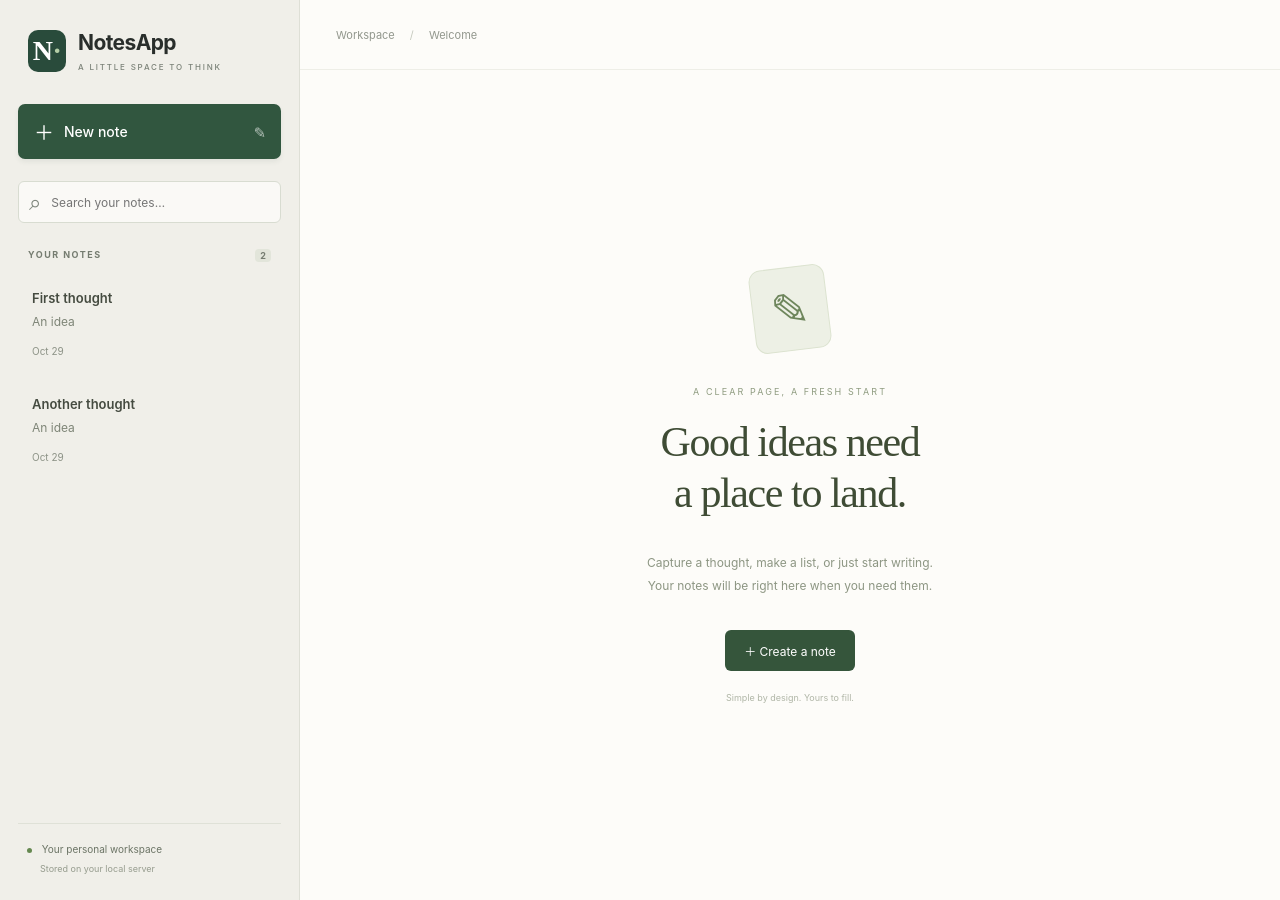
Test: Notes workspace › preserves a conflicting draft until reload is confirmed
Click the button "First thought An idea Oct 29".
click(72, 298)  # box 18,274 -> 281,374
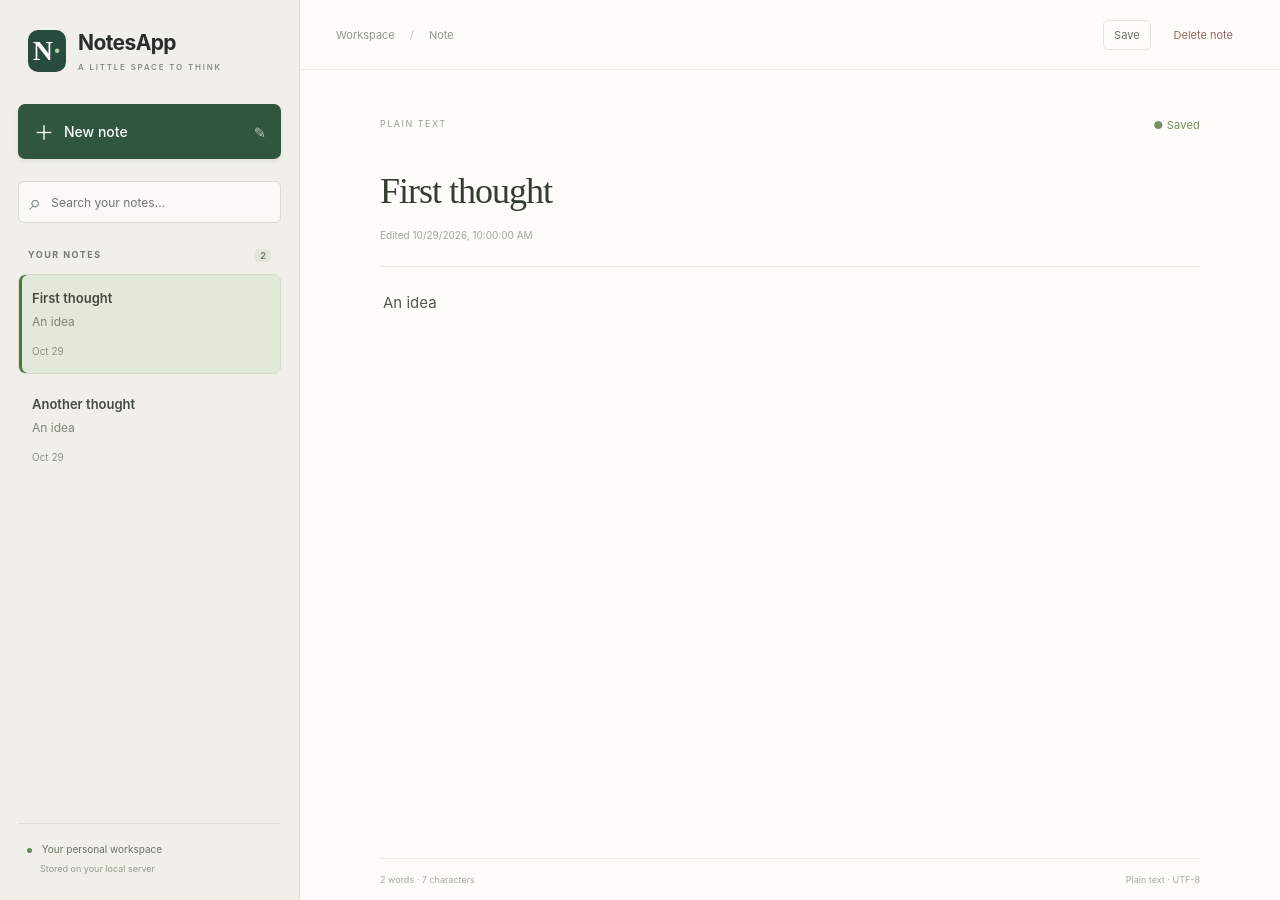
Replace the text in the text box named "Note body" with "Local draft" at {"x": 790, "y": 574}, box 380,289 -> 1200,858
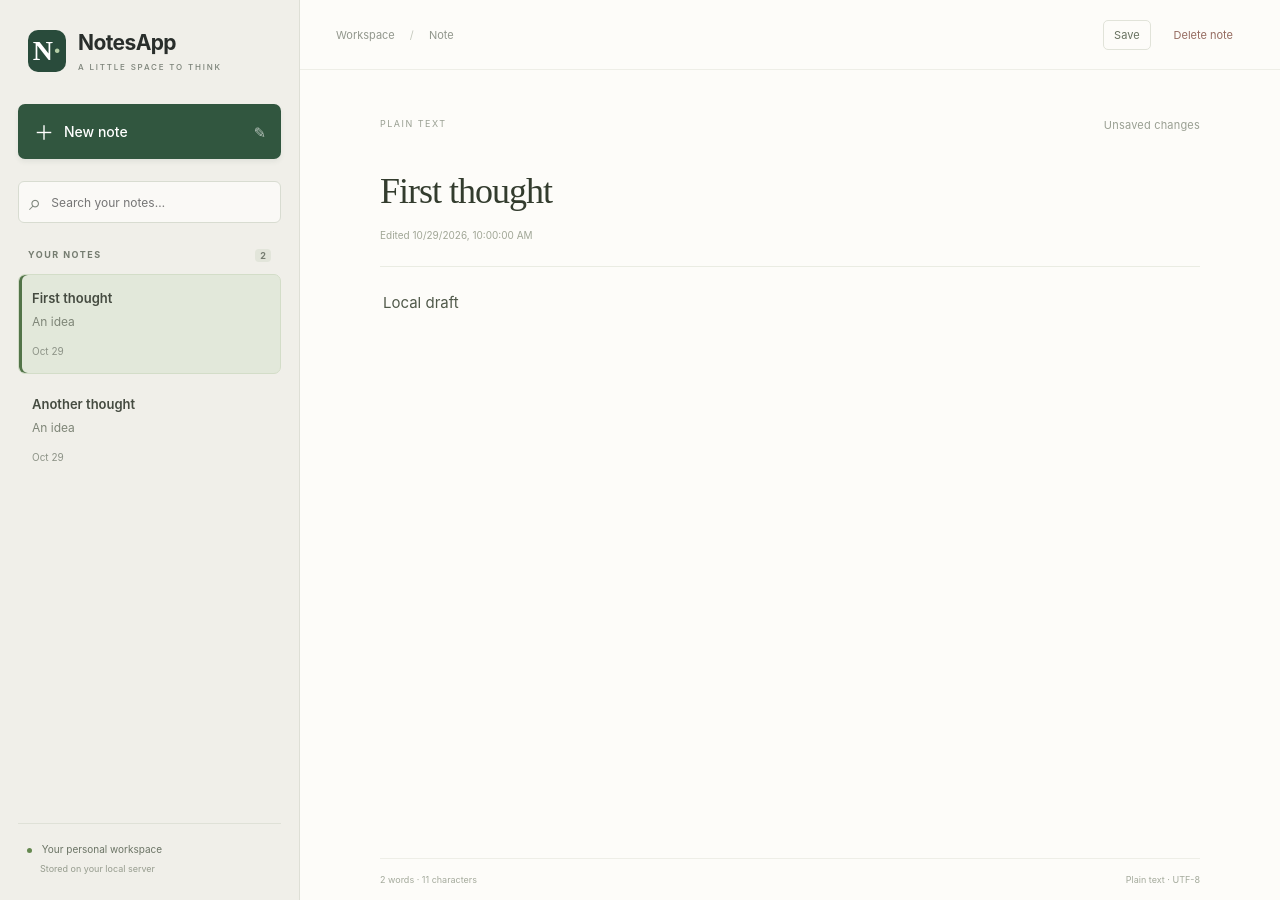
Click the button "Save".
click(1127, 34)  # box 1103,20 -> 1151,50
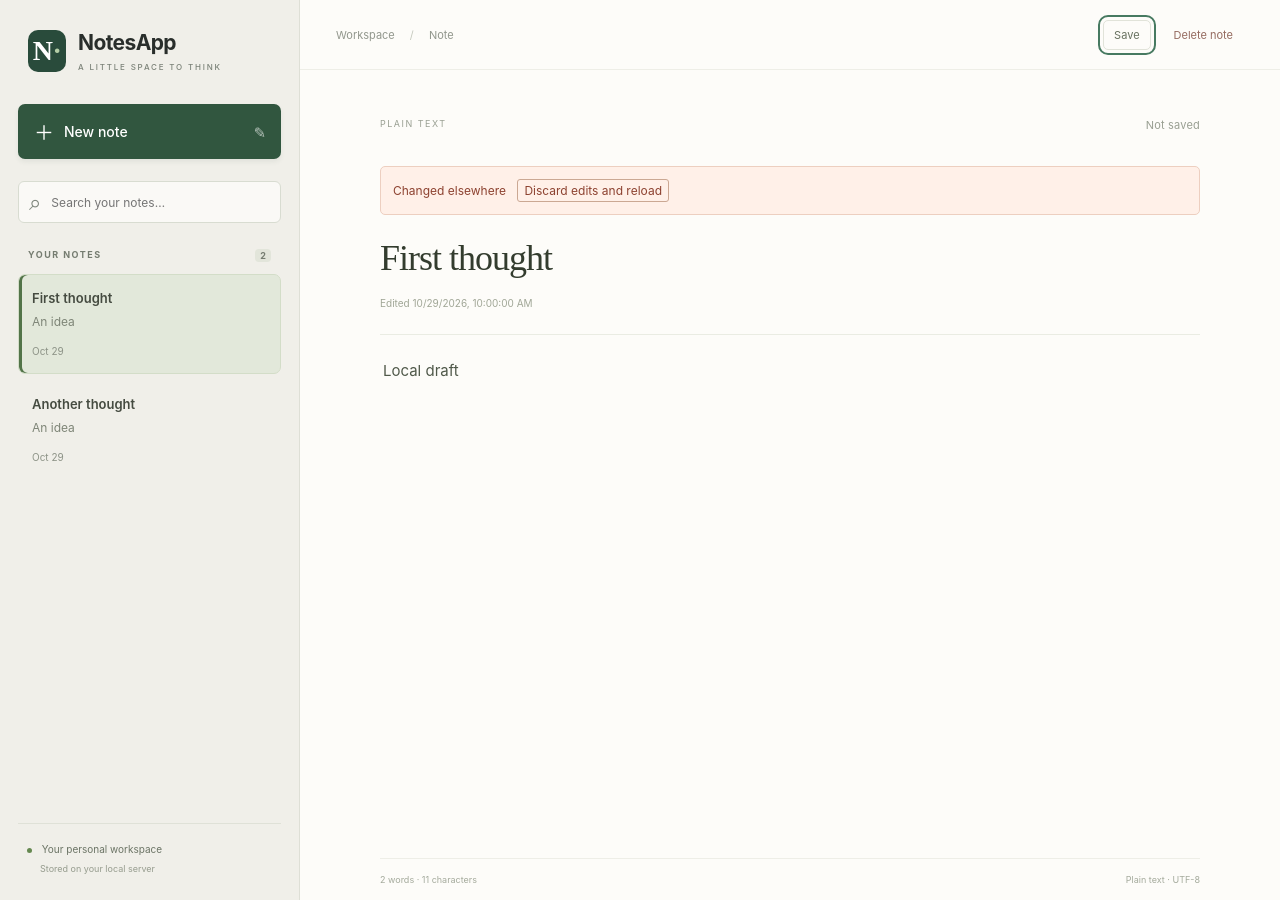
Expected: the message "Changed elsewhere Discard edits and reload" is shown, 380,166 -> 1200,215
Click the button "Discard edits and reload".
click(593, 191)  # box 517,179 -> 669,202
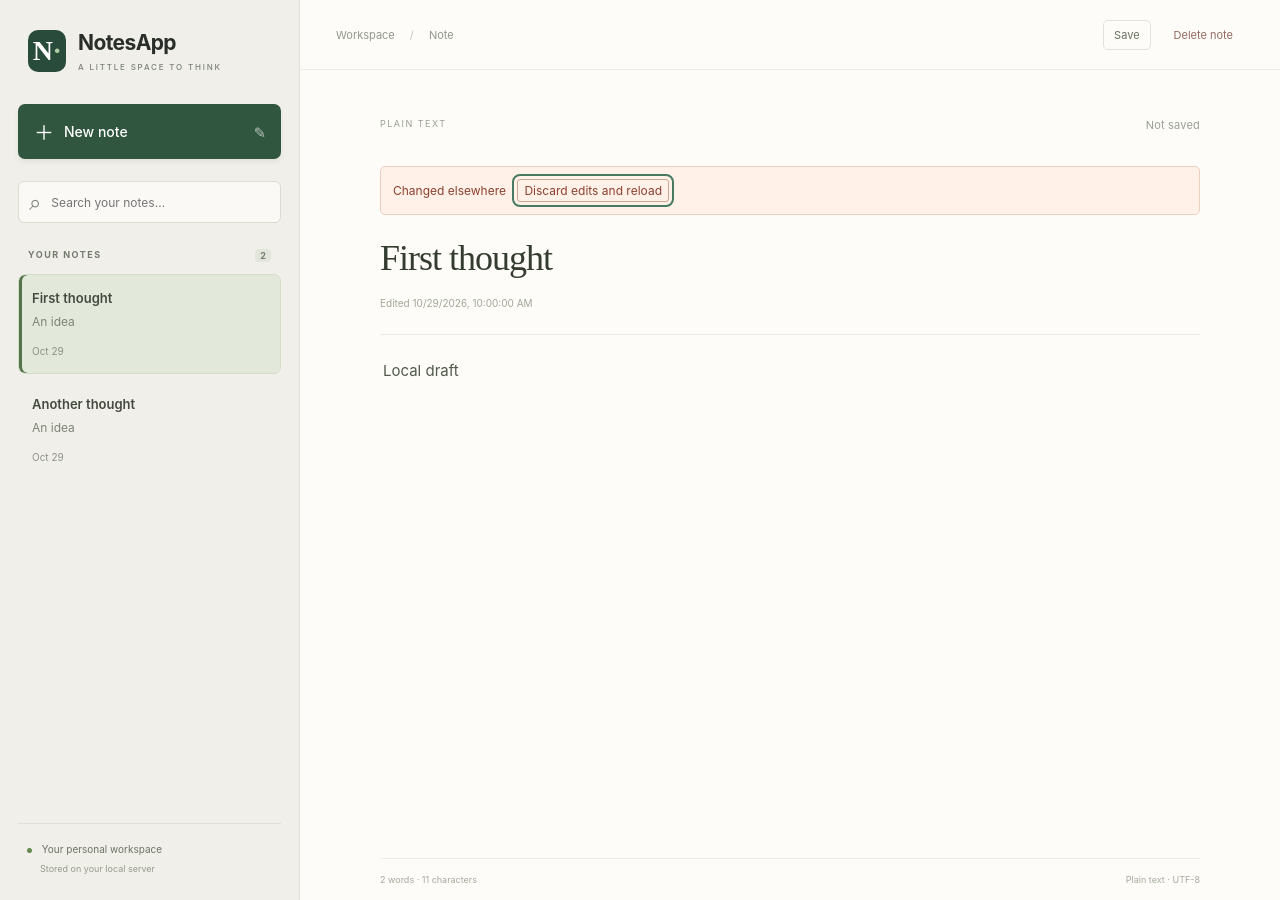
Click the button "Discard edits and reload".
click(593, 191)  # box 517,179 -> 669,202
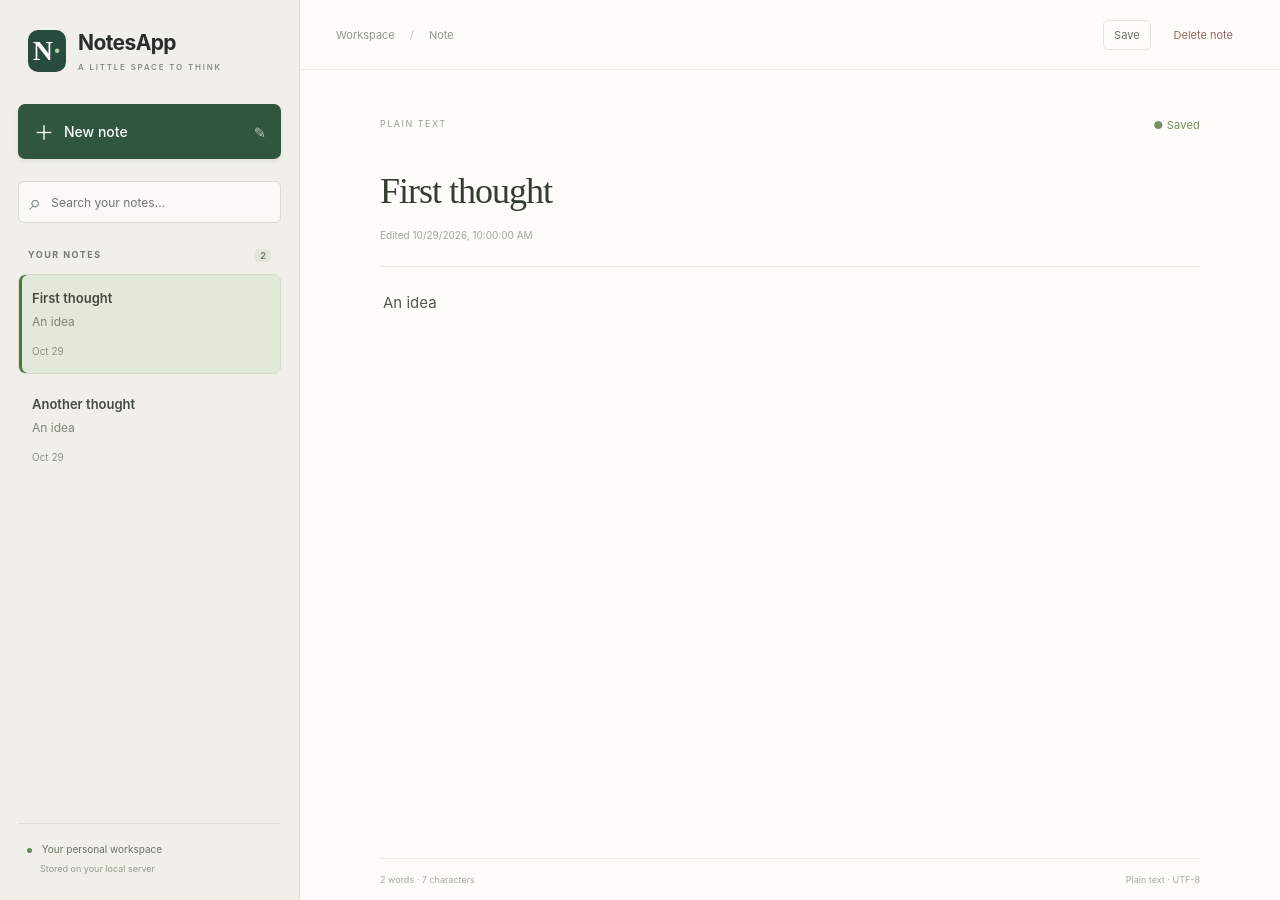
Expected: the text box named "Note body" holds "An idea", 380,289 -> 1200,858
